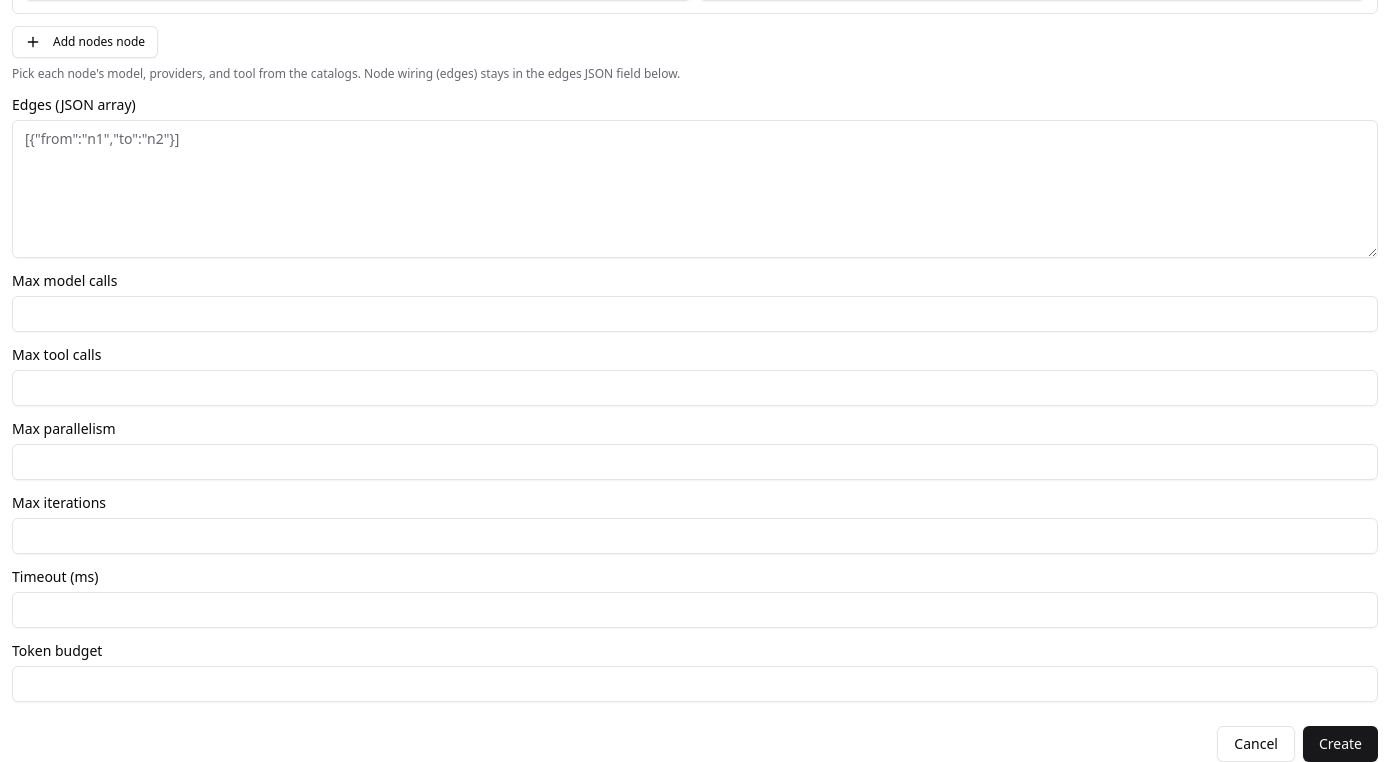
Test case: agent-workflow structured node reference panel › rejects a model node with no model selected before submit
(page scrolled)
What coordinates should you click on to do the following:
click the button "Create"
I would click on:
 (1340, 744)
Its box is x1=1303 y1=726 x2=1378 y2=761.
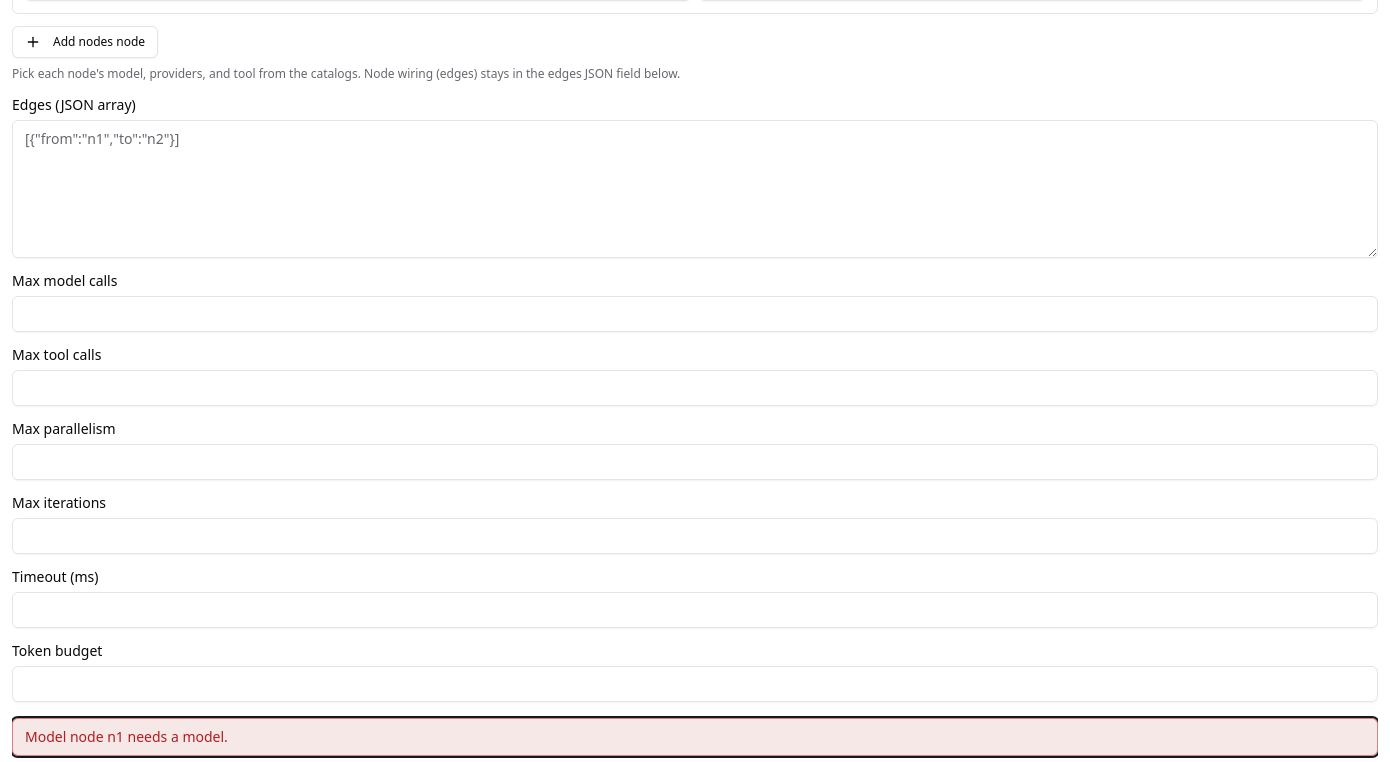
Expected: the text "Model node n1 needs a model." is shown, x1=12 y1=718 x2=1378 y2=756
